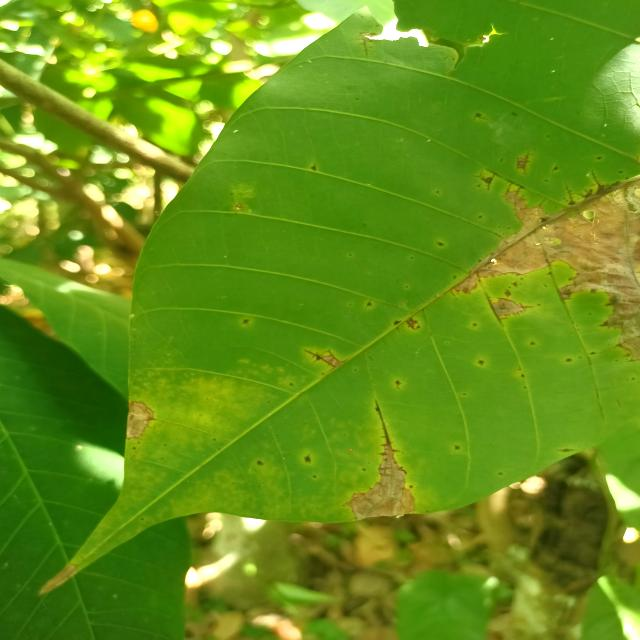Colletotrichum: (305, 457, 310, 462), (257, 461, 262, 465), (566, 358, 571, 362), (454, 446, 460, 449), (478, 361, 484, 364), (597, 156, 601, 160), (553, 167, 558, 170), (619, 171, 623, 173)
Corynespora: (484, 293, 534, 327), (374, 400, 399, 456), (302, 348, 342, 367), (516, 151, 536, 175), (474, 170, 495, 190), (588, 169, 605, 186), (564, 181, 576, 205), (405, 317, 419, 330)
Leaf-Blight: (451, 173, 640, 361), (346, 445, 416, 521), (125, 400, 155, 440)
